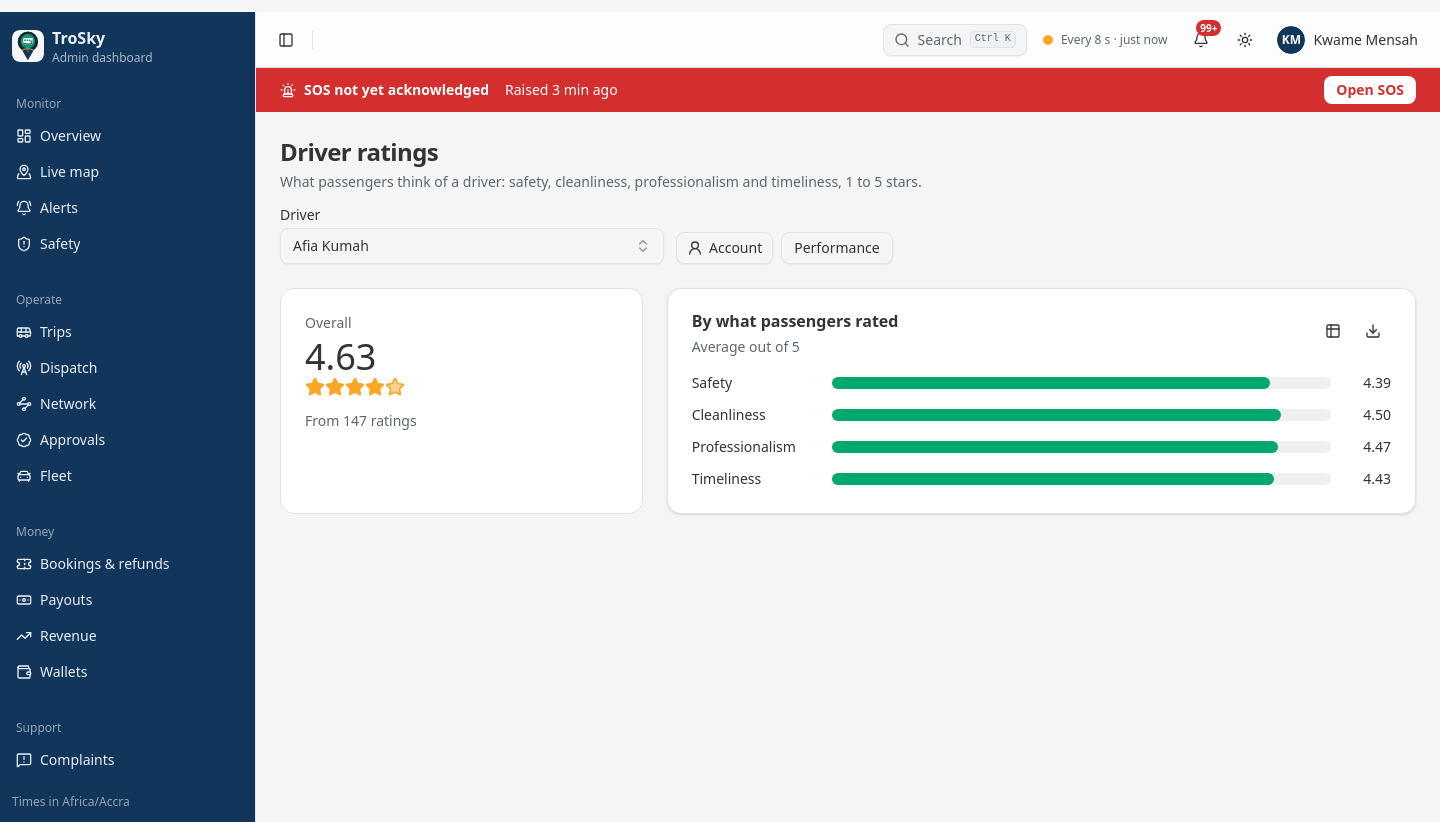
it: Driver ratings › show a driver’s overall score and each category, as bars or a table
The width and height of the screenshot is (1440, 822).
Expected: the text "Overall" is shown, x1=305 y1=313 x2=352 y2=332
Click the button named "Show as a table": (1333, 331) x1=1315 y1=313 x2=1351 y2=349
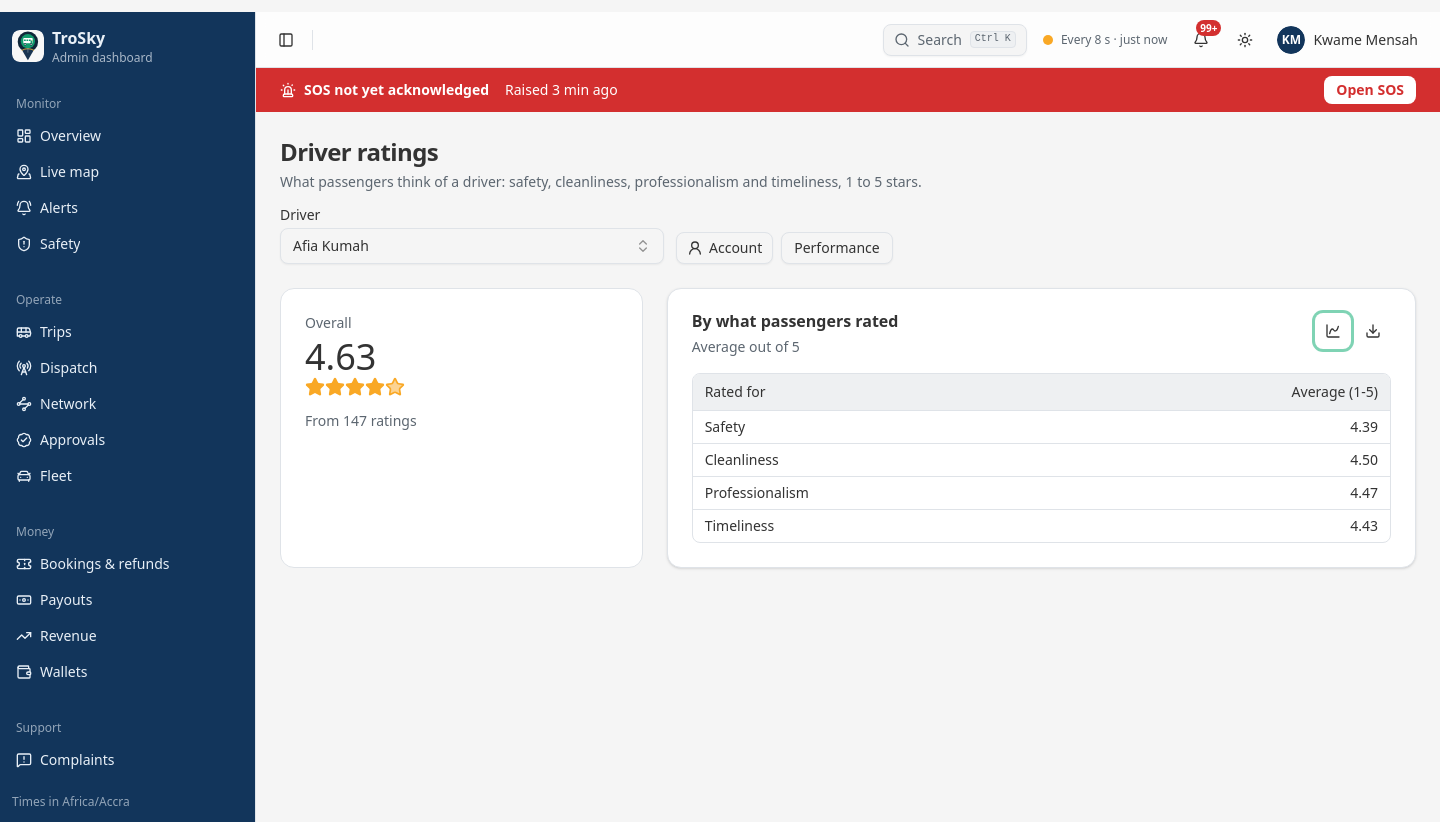
Now the number of rows is 5, box x1=693 y1=374 x2=1390 y2=410; x1=693 y1=410 x2=1390 y2=444; x1=693 y1=444 x2=1390 y2=476; x1=693 y1=476 x2=1390 y2=510; x1=693 y1=510 x2=1390 y2=542
